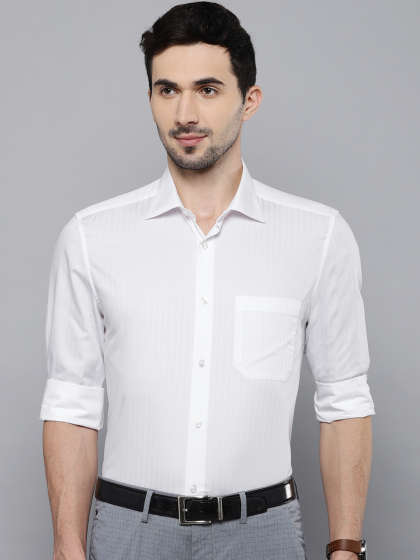F_belt: (96, 475, 298, 527)
F_shirt: (36, 165, 373, 489)
